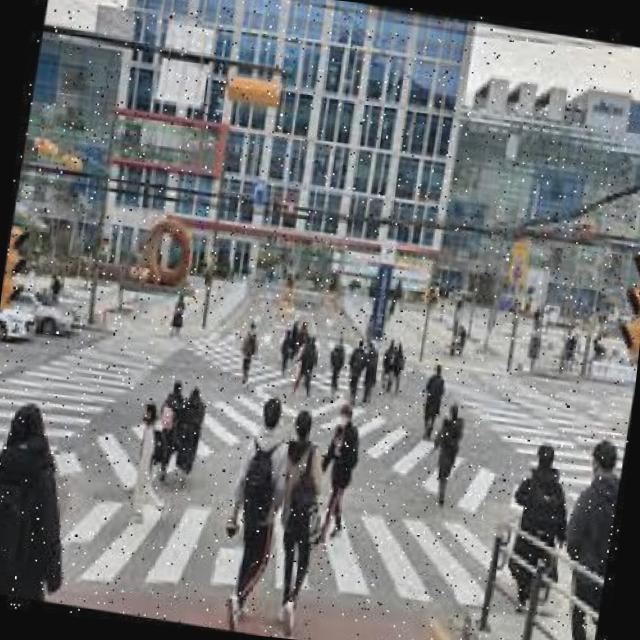Person: (205, 388, 296, 634), (0, 389, 87, 601), (538, 430, 625, 640), (260, 397, 334, 638), (498, 438, 576, 616), (119, 392, 185, 528), (310, 396, 365, 542), (424, 398, 468, 507), (169, 383, 207, 491), (414, 357, 448, 439), (342, 336, 368, 398), (322, 333, 346, 390)
